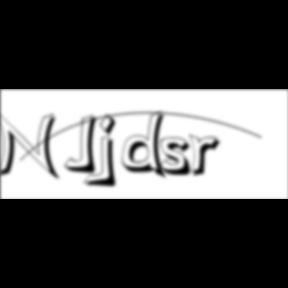J: (65, 114, 104, 176)
N: (0, 109, 64, 183)
d: (122, 110, 172, 182)
j: (96, 113, 124, 191)
r: (189, 134, 227, 180)
s: (160, 137, 198, 179)
